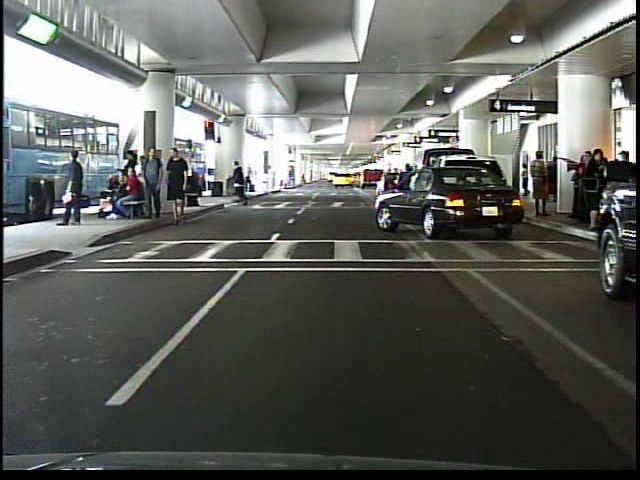person: (61, 145, 93, 233), (526, 149, 549, 216), (231, 159, 256, 206), (521, 160, 532, 196)
